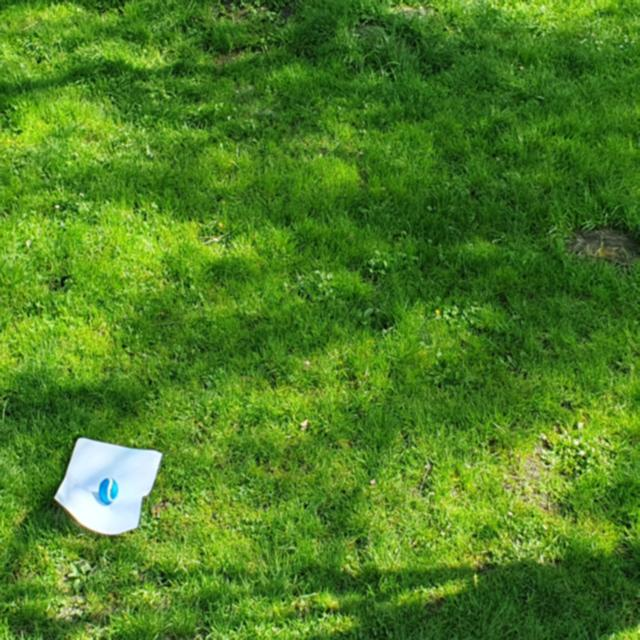blue: (99, 478, 119, 503)
